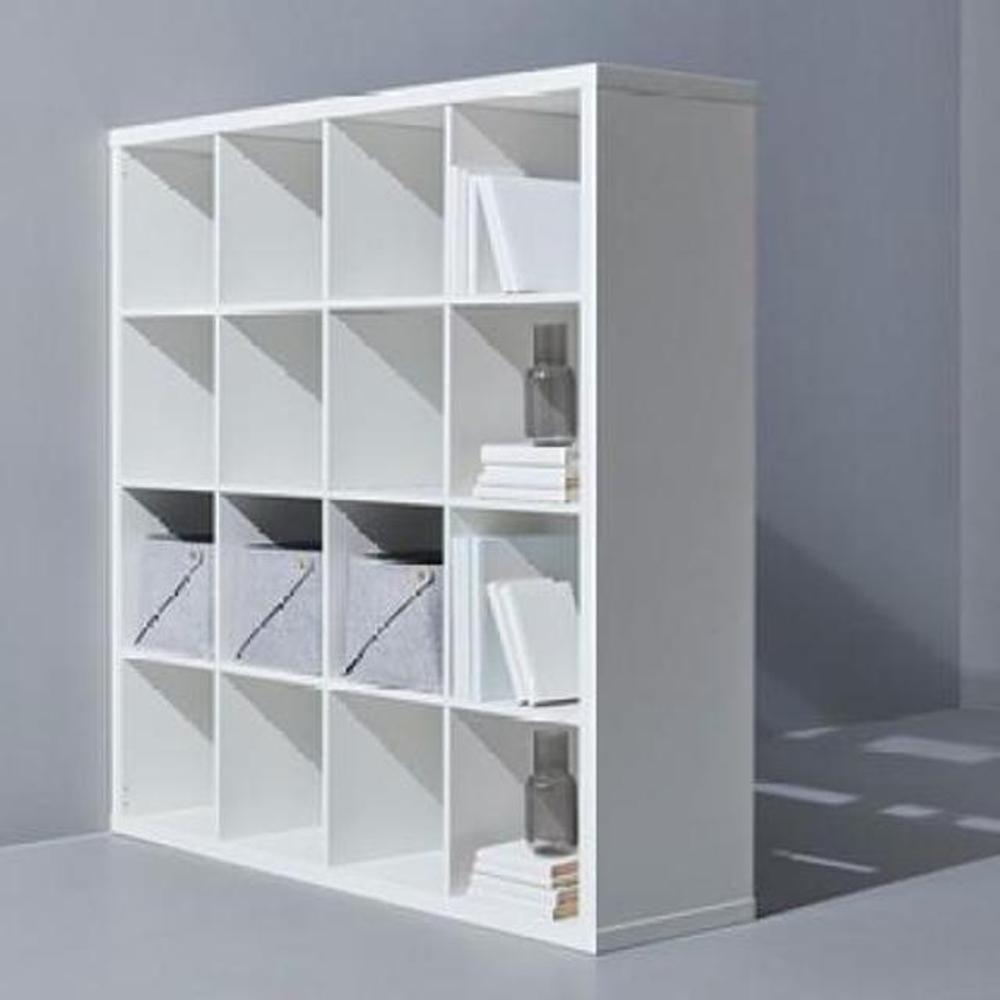lamp: (103, 54, 760, 960)
